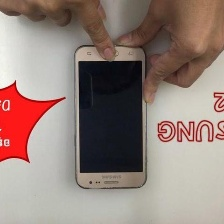phone: (69, 40, 151, 193)
